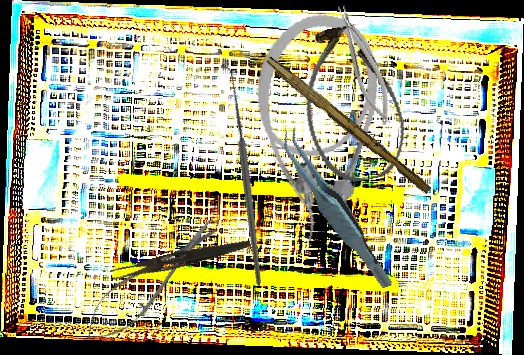Cannula: (231, 5, 392, 249), (291, 18, 414, 189)
Dressing Forceps: (110, 232, 252, 286)
Hook Surgical: (147, 64, 334, 287)
Micro Scissor: (73, 208, 229, 354)
Needle Holder: (331, 0, 399, 130)
Scalpel Handle: (261, 55, 435, 196)
Tissue Forceps: (278, 114, 394, 304)
